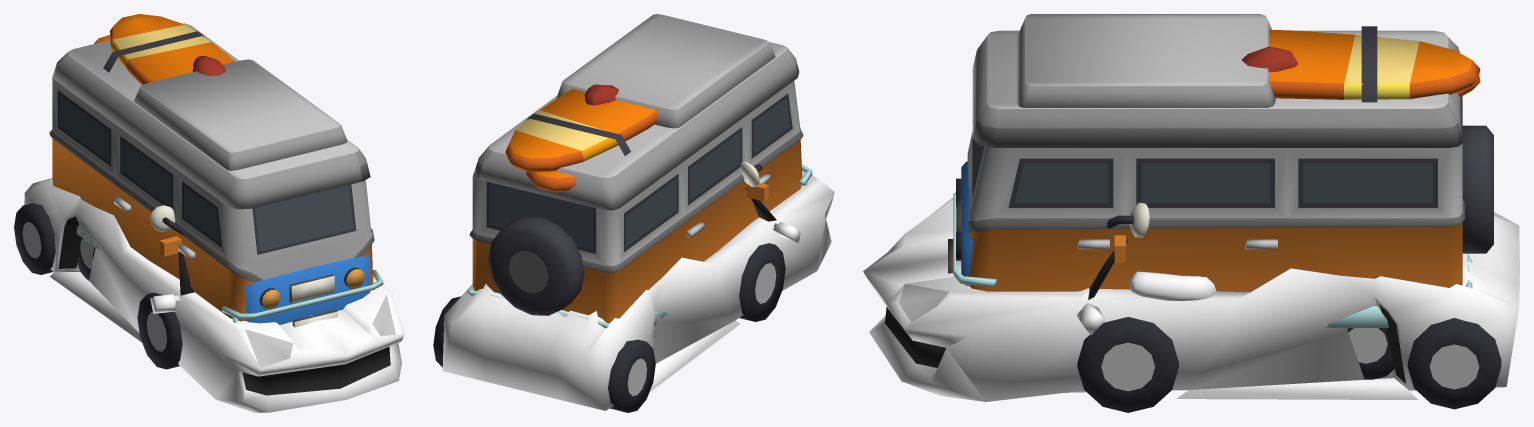
File: Car.fbx
3 views of the same model, side by side, from view 1: azimuth 30°, elevation 25°; view 2: azimuth 150°, elevation 25°; view 3: azimuth 270°, elevation 25° (orthographic). The views are drawn at different scales.
Parts seen in each view (by area): view 1: Car; view 2: Car; view 3: Car.
Part boxes in pixels (<box>): Car: <box>14,14,404,412</box>; Car: <box>433,14,834,412</box>; Car: <box>863,14,1519,412</box>.
Bounding box in the file's own units: 183 × 197 × 368.
4 materials, 2 textured.
